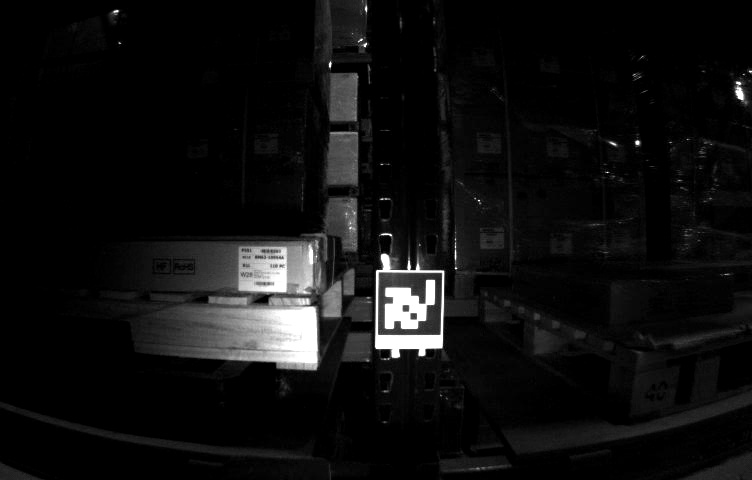True Barcode: (235, 245, 284, 291)
